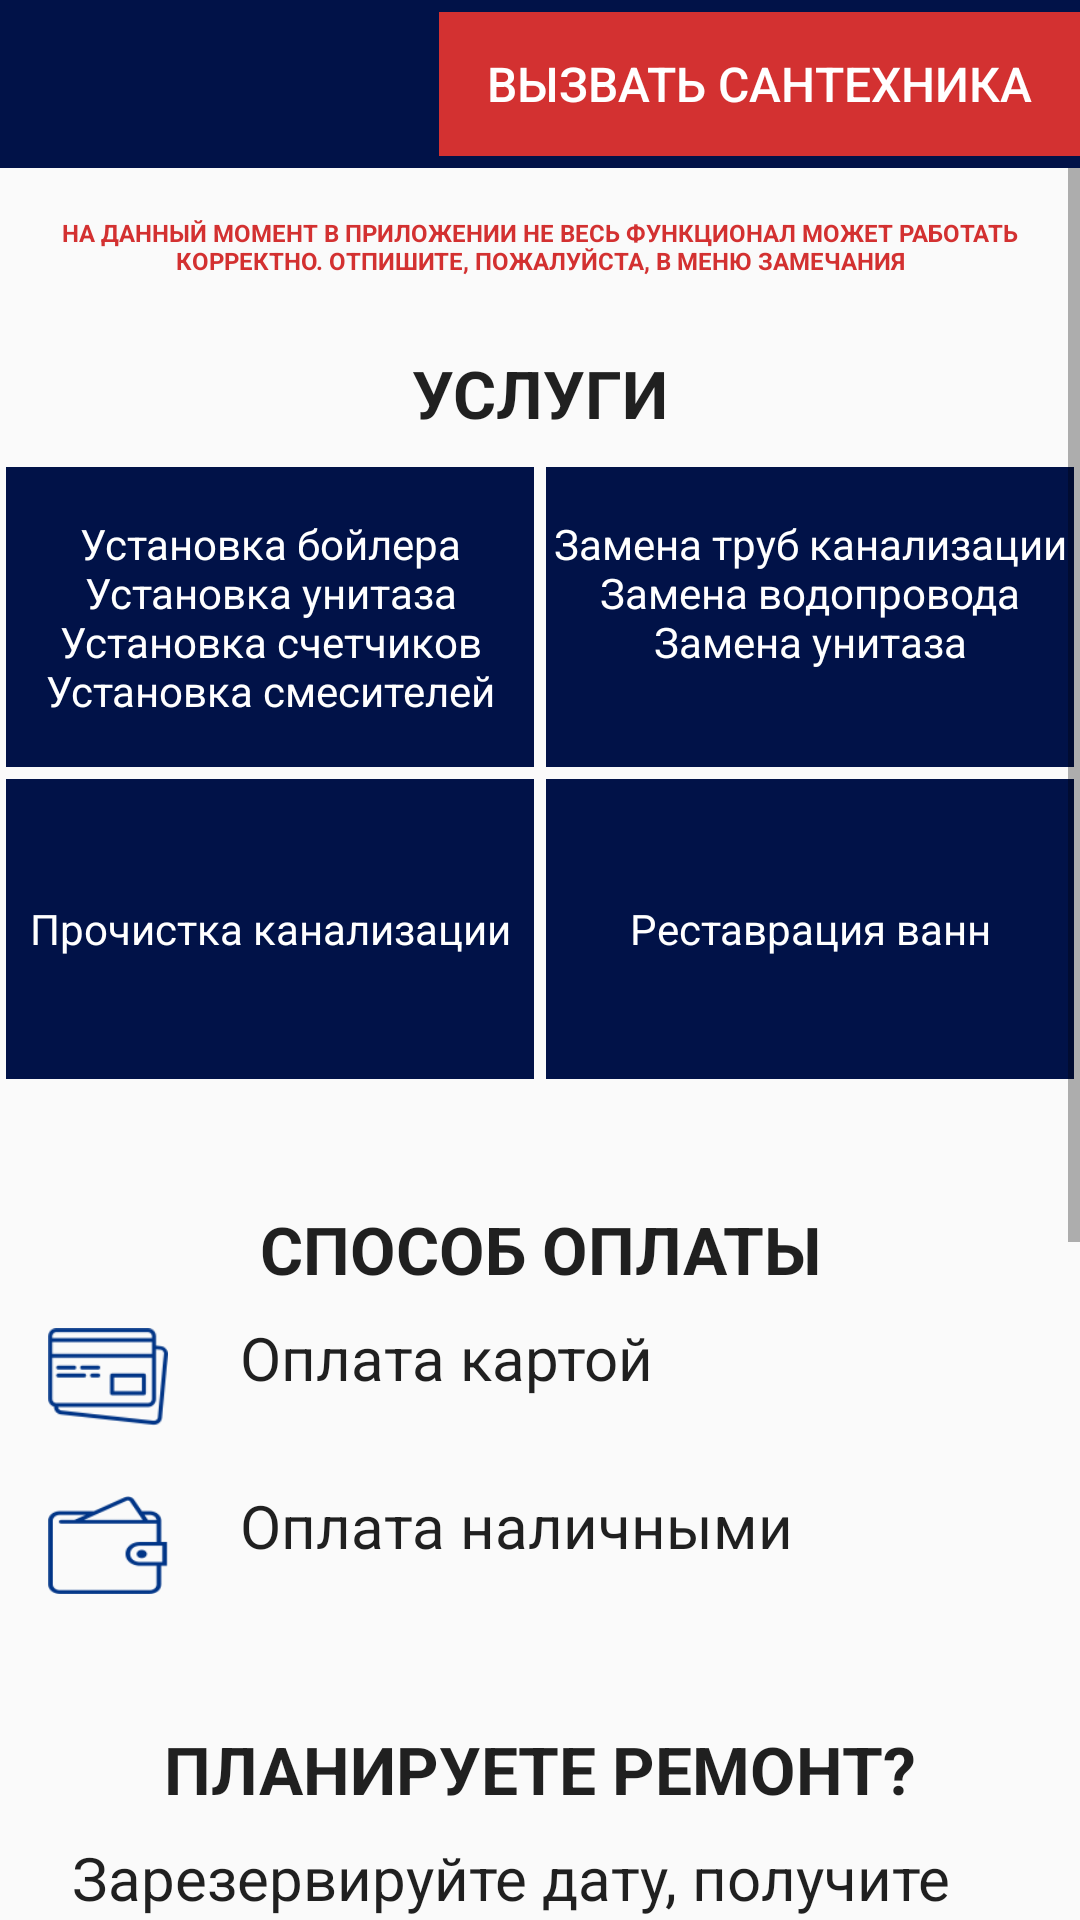

Icon bounding boxes for this 1080x1920 phone screenshot, format rect(x1, y1, x2, y2):
card: rect(48, 1328, 168, 1425)
cash: rect(48, 1496, 168, 1594)
